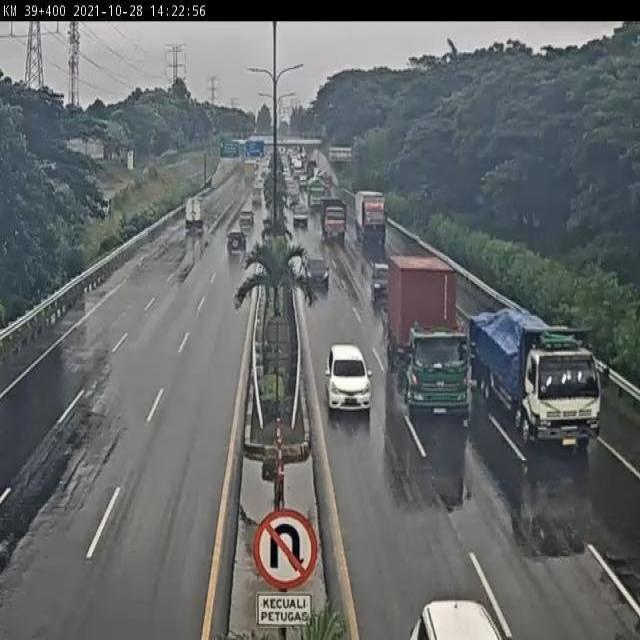Car: (407, 596, 502, 640), (324, 343, 376, 418), (304, 254, 330, 291), (372, 259, 389, 307), (226, 230, 247, 255), (292, 204, 310, 229), (240, 209, 256, 227)
Truck: (465, 307, 613, 448), (386, 251, 471, 421), (355, 190, 389, 248), (322, 192, 348, 248), (184, 197, 209, 231), (305, 176, 328, 210)
